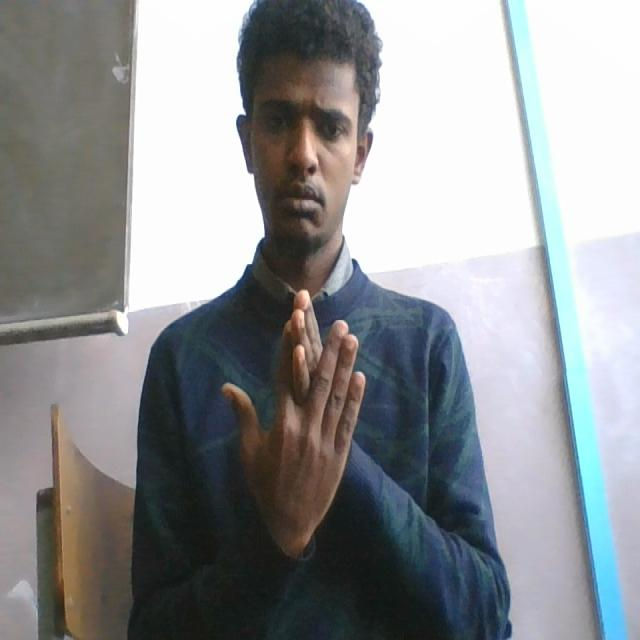bekul: (217, 284, 372, 562)
